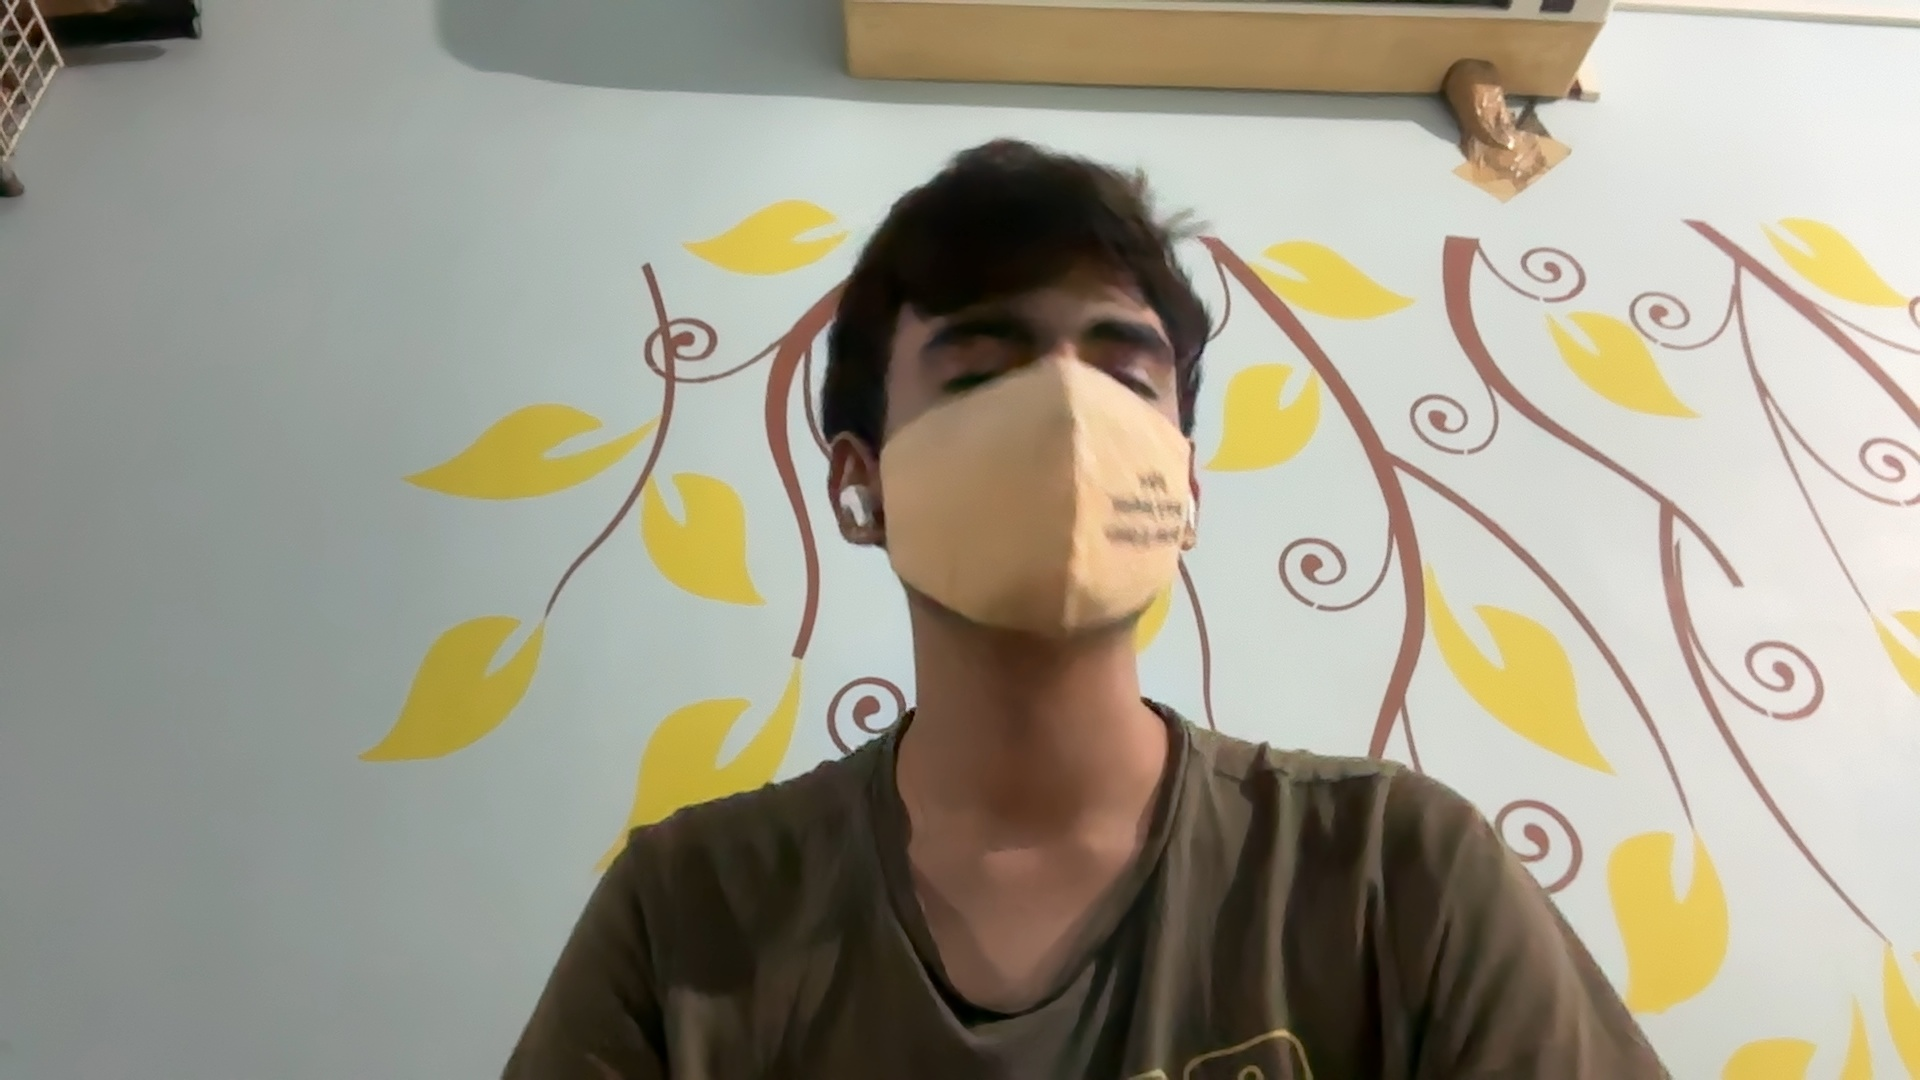Mask: (878, 388, 1203, 670)
